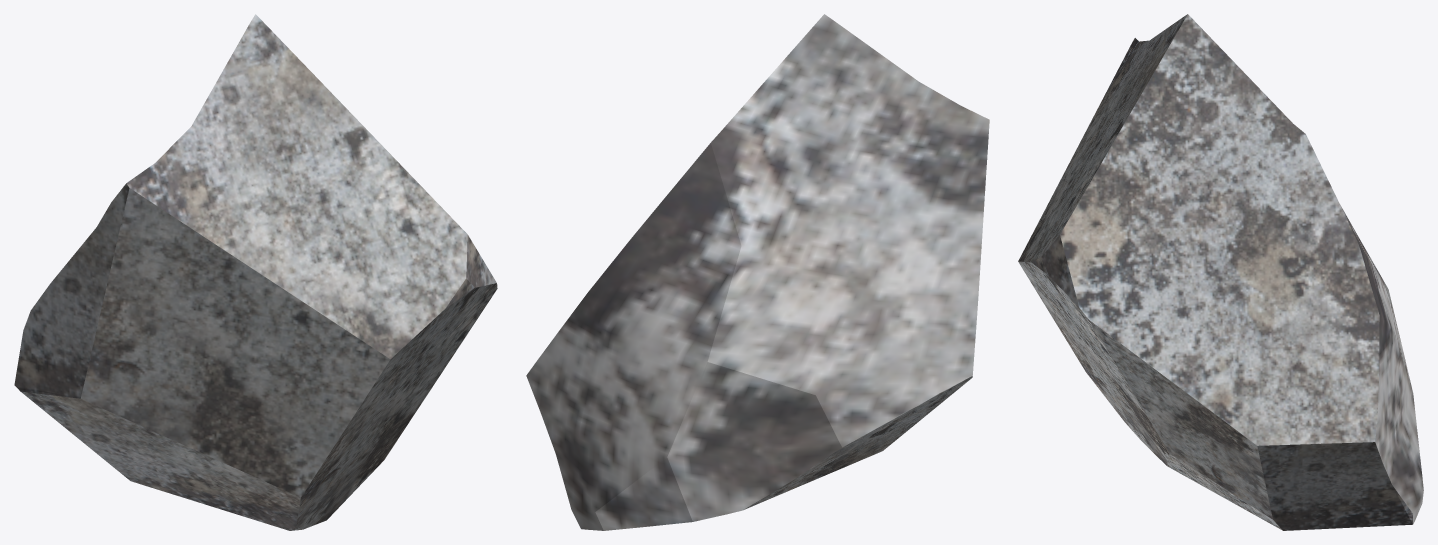
File: Asteroid_Large_001_02_003_03_003.fbx
3 renders of one model, left to right at view 1: azimuth 30°, elevation 25°; view 2: azimuth 150°, elevation 25°; view 3: azimuth 270°, elevation 25°, orthographic. The views are drawn at different scales.
Visible parts, largest first — view 1: Asteroid_Large_001_02_003_03_003; view 2: Asteroid_Large_001_02_003_03_003; view 3: Asteroid_Large_001_02_003_03_003.
Part boxes in pixels (x1,y1,x2,y2): Asteroid_Large_001_02_003_03_003: [14, 14, 497, 530]; Asteroid_Large_001_02_003_03_003: [526, 14, 989, 530]; Asteroid_Large_001_02_003_03_003: [1018, 14, 1423, 530].
Bounding box in the file's own units: 11.89 × 13.59 × 11.04.
